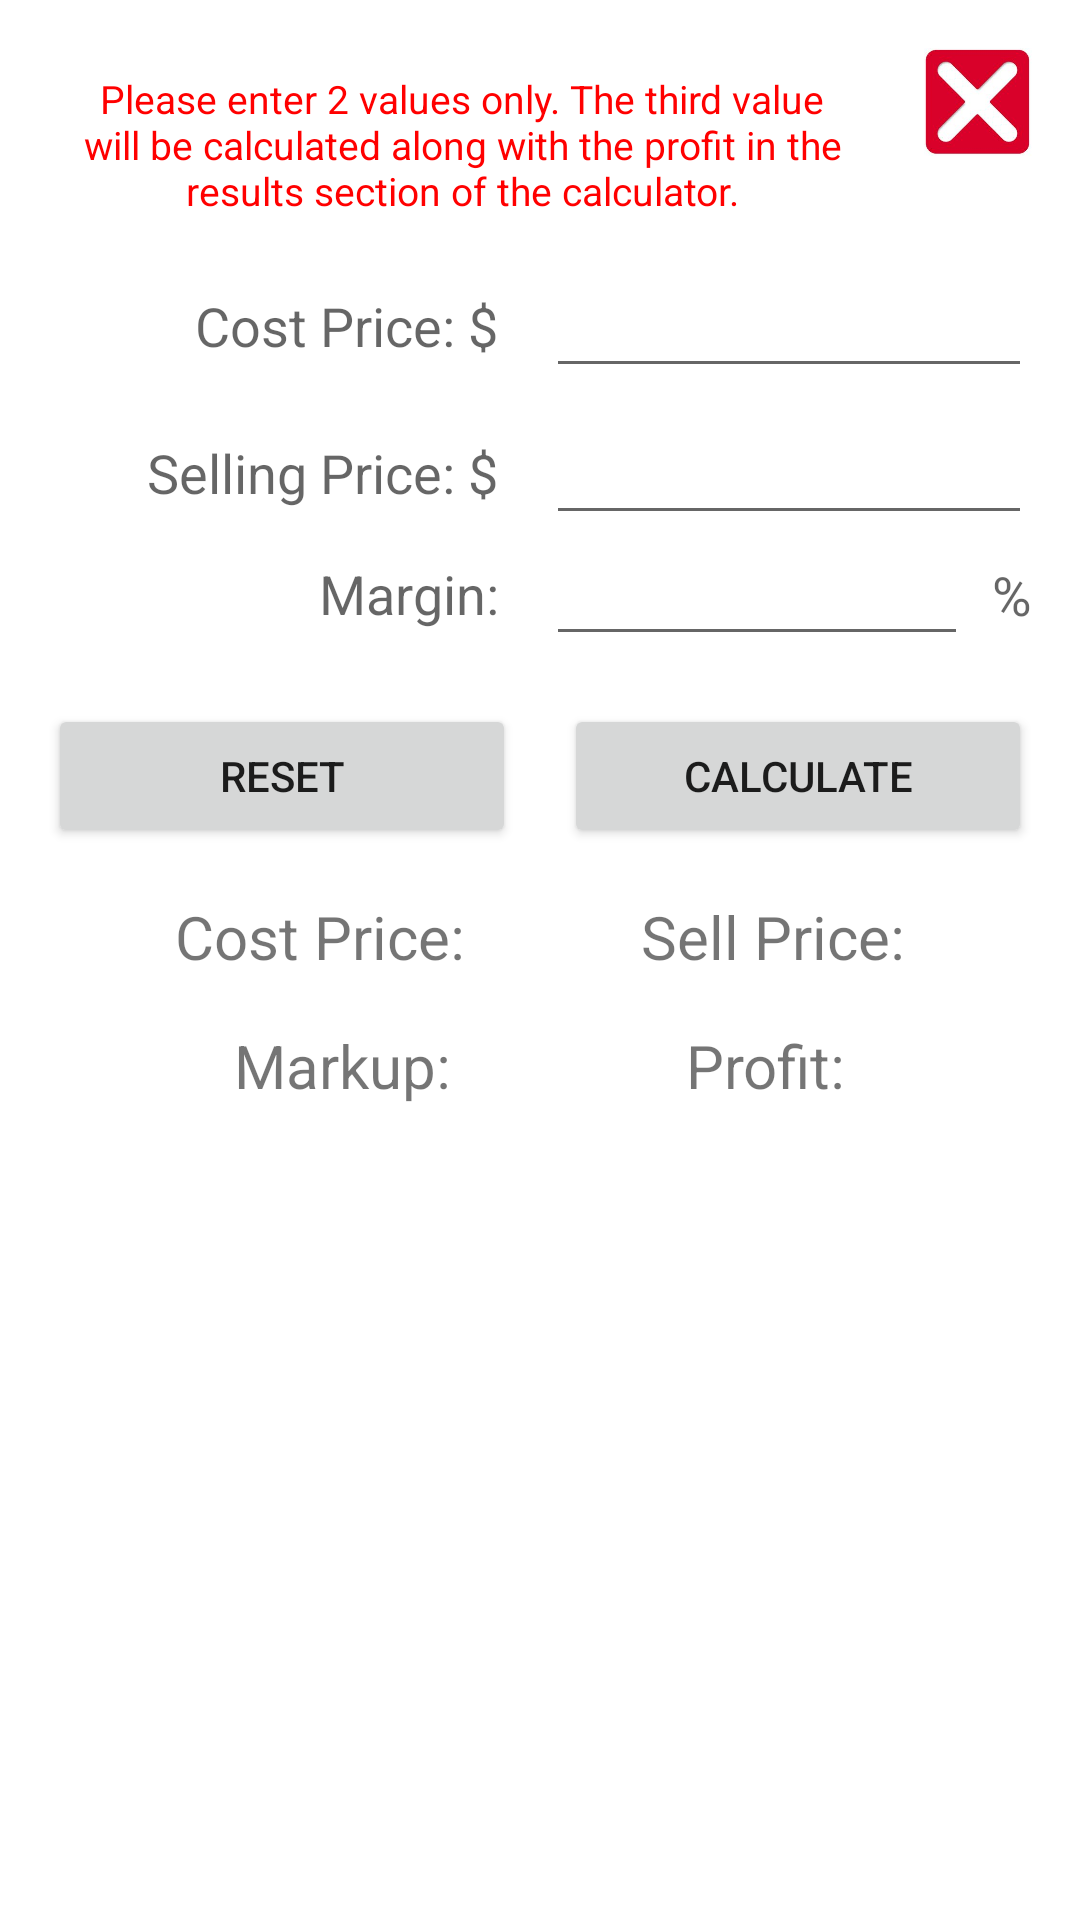

Icons on this 1080 x 1920 Android screen, each with the point to tap as point (x, y):
close: point (977, 101)
